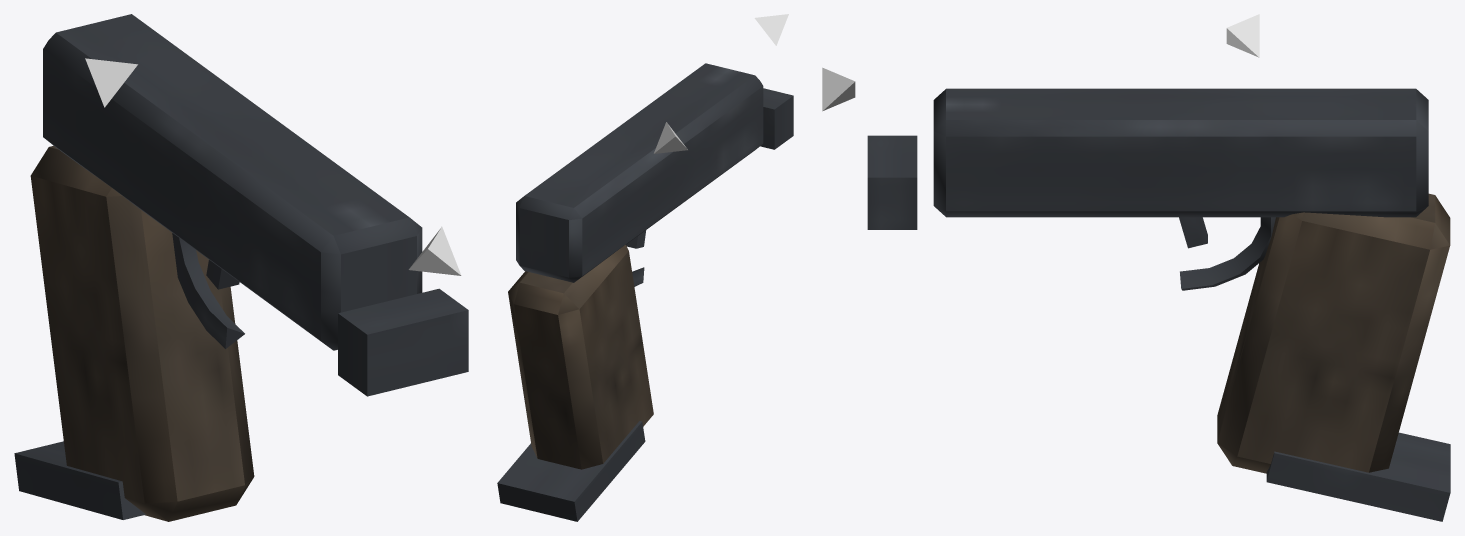
File: SM_Pistol.fbx
3 renders of one model, left to right at view 1: azimuth 30°, elevation 25°; view 2: azimuth 150°, elevation 25°; view 3: azimuth 270°, elevation 25°, orthographic. The views are drawn at different scales.
Parts seen in each view (by area): view 1: SM_Pistol, Muzzle_Att, ShellEject_Att; view 2: SM_Pistol, Muzzle_Att, ShellEject_Att; view 3: SM_Pistol, Muzzle_Att, ShellEject_Att.
Boxes of the visible parts, bbox=[...] form: SM_Pistol: bbox=[14, 14, 468, 521]; Muzzle_Att: bbox=[408, 227, 461, 275]; ShellEject_Att: bbox=[85, 58, 137, 107]; SM_Pistol: bbox=[497, 63, 793, 521]; Muzzle_Att: bbox=[754, 14, 788, 45]; ShellEject_Att: bbox=[654, 122, 687, 153]; SM_Pistol: bbox=[867, 88, 1450, 521]; Muzzle_Att: bbox=[822, 67, 855, 111]; ShellEject_Att: bbox=[1226, 14, 1259, 57].
Bounding box in the file's own units: 0.38 × 1.18 × 1.52.
1 material, 1 textured.
